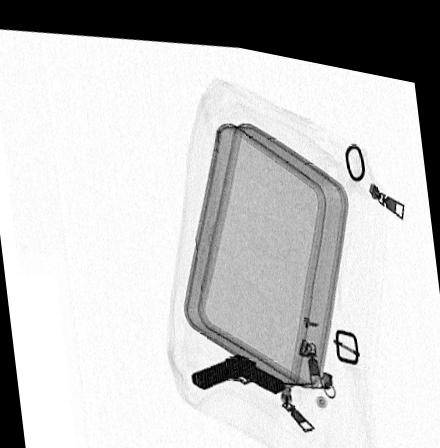Gun: (187, 342, 285, 383)
